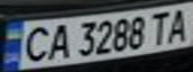2: (93, 16, 115, 56)
3: (75, 18, 96, 57)
8: (127, 12, 151, 50), (112, 16, 133, 53)
A: (42, 20, 72, 61), (163, 4, 193, 43)
C: (18, 24, 54, 63)
T: (145, 9, 172, 46)
